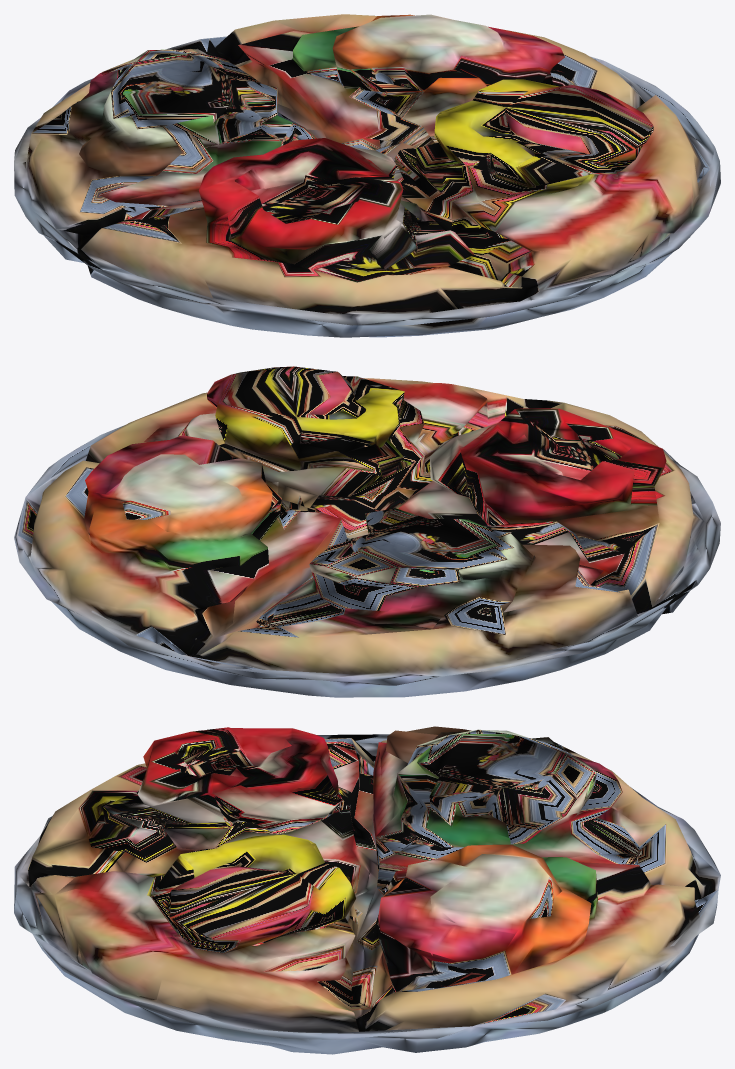
File: gso_melissa_doug_felt_food_pizza_set.glb
3 views of the same model, one above another, from view 1: azimuth 30°, elevation 25°; view 2: azimuth 150°, elevation 25°; view 3: azimuth 270°, elevation 25° (orthographic).
Visible parts, largest first — view 1: z-up-to-y-up; view 2: z-up-to-y-up; view 3: z-up-to-y-up.
Part boxes in pixels (left/top/right/bottom): z-up-to-y-up: left=14, top=14, right=720, bottom=337; z-up-to-y-up: left=14, top=366, right=720, bottom=697; z-up-to-y-up: left=14, top=726, right=720, bottom=1054.
Bounding box in the file's own units: 0.2759 × 0.0428 × 0.2748.
1 material, 1 textured.
